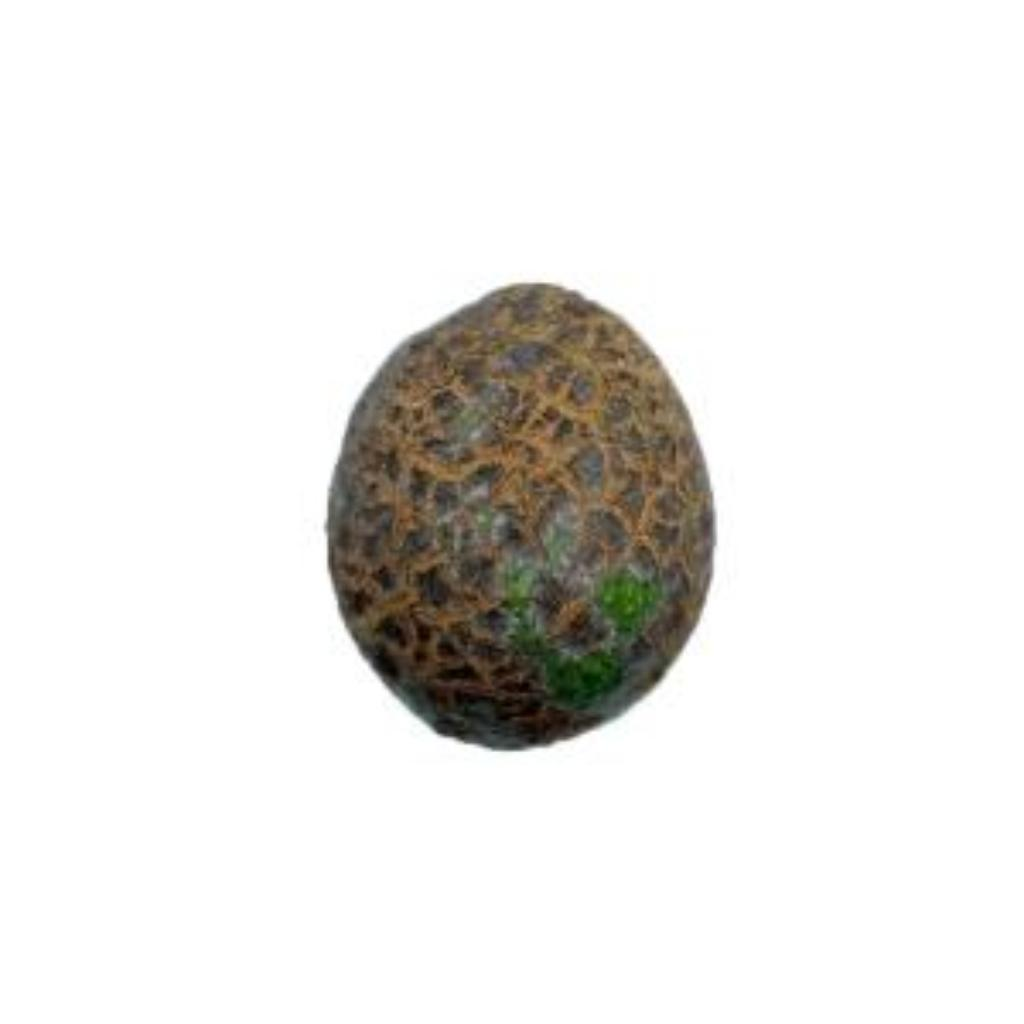cercospora_spot: (314, 262, 730, 756)
